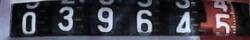digits: (209, 0, 233, 40), (135, 9, 153, 33), (96, 6, 113, 31), (57, 6, 74, 30), (175, 11, 191, 33), (21, 12, 36, 34)
